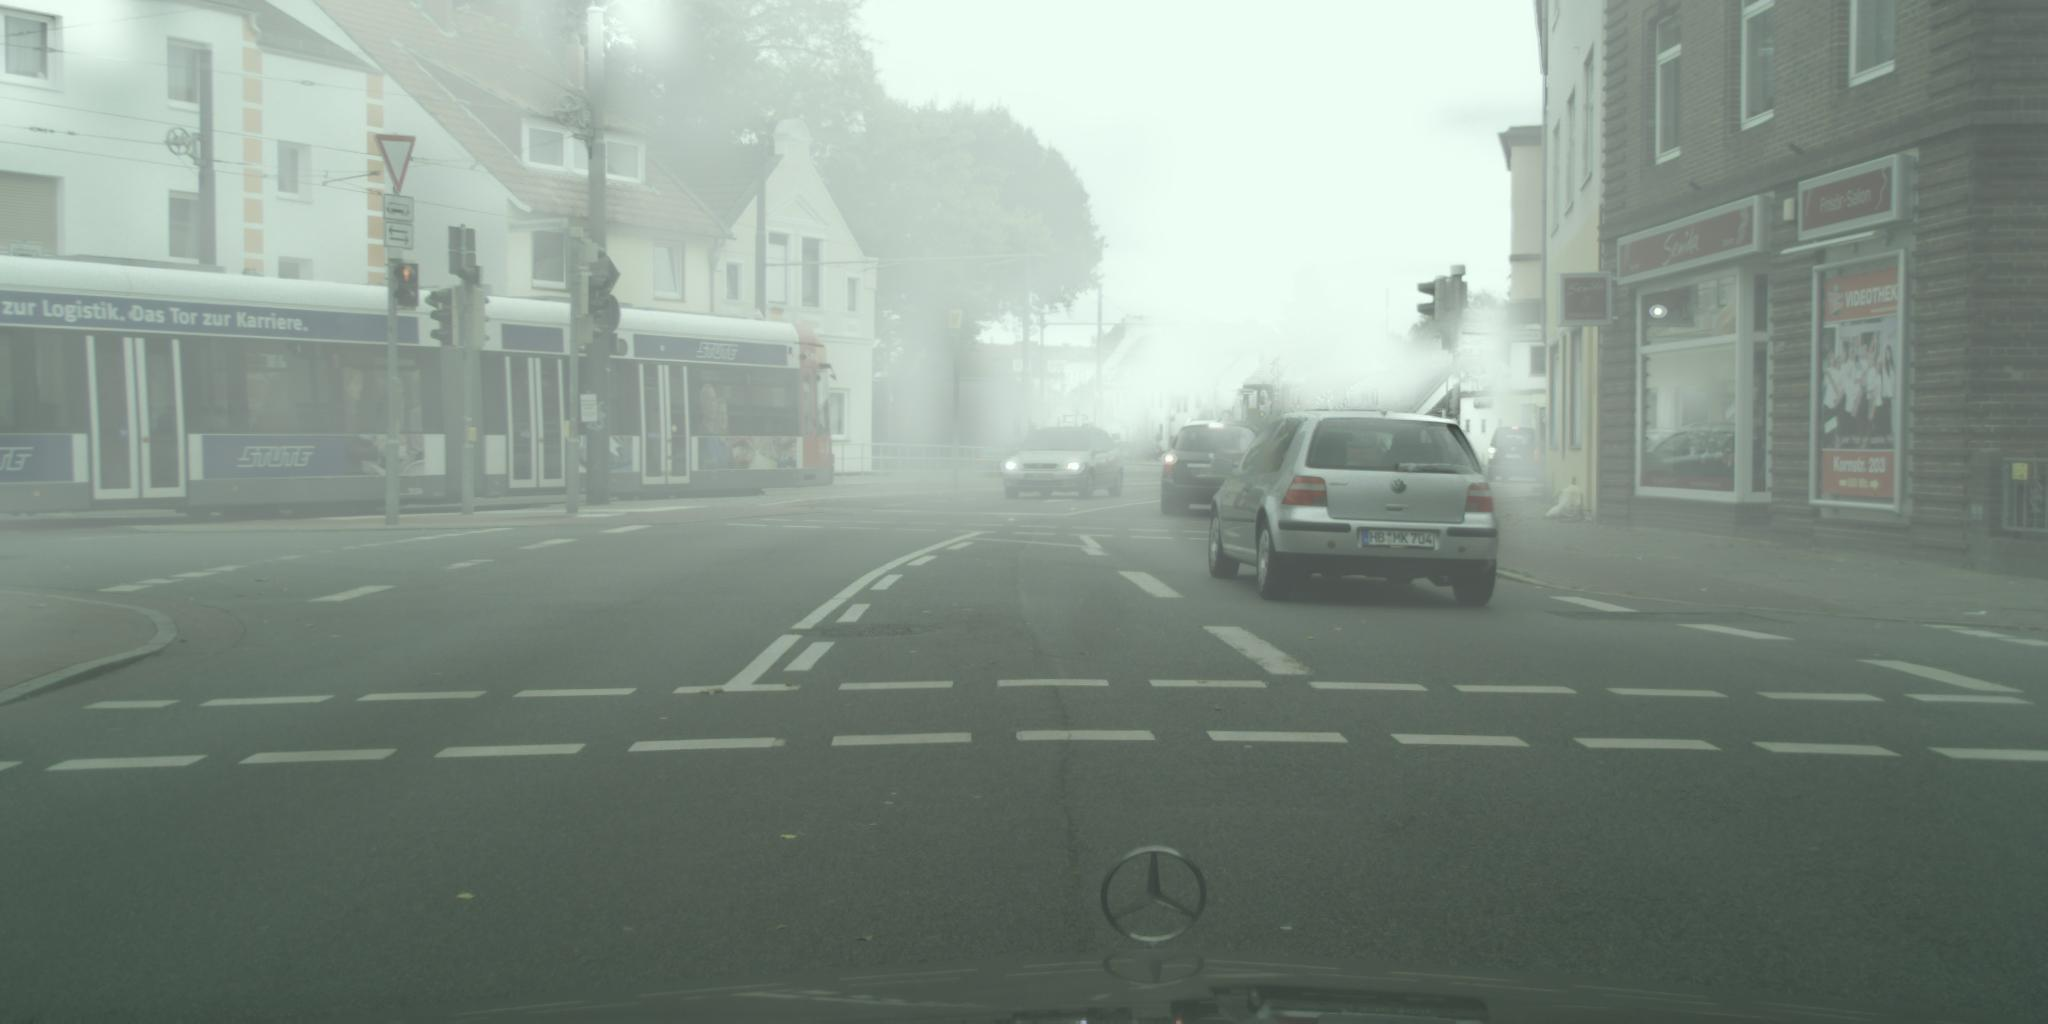car: (1209, 409, 1499, 609), (1161, 415, 1266, 517), (1004, 428, 1127, 500), (1486, 424, 1550, 485)
train: (1, 249, 839, 520)
